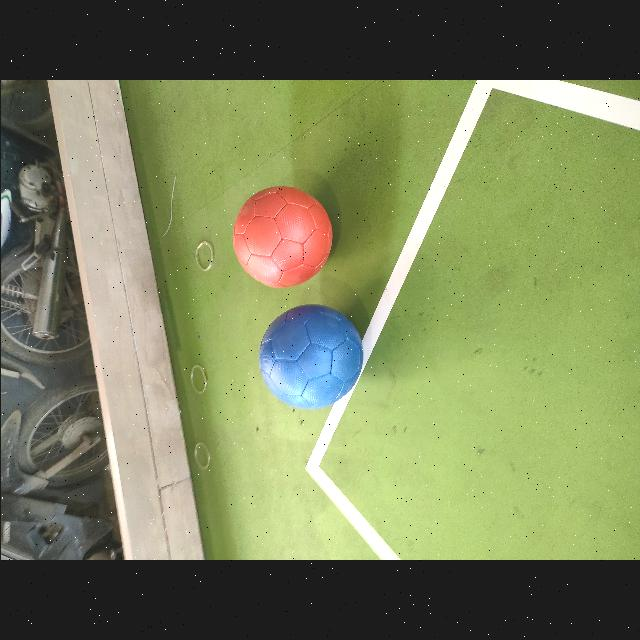B: (258, 305, 362, 409)
R: (232, 186, 330, 288)
